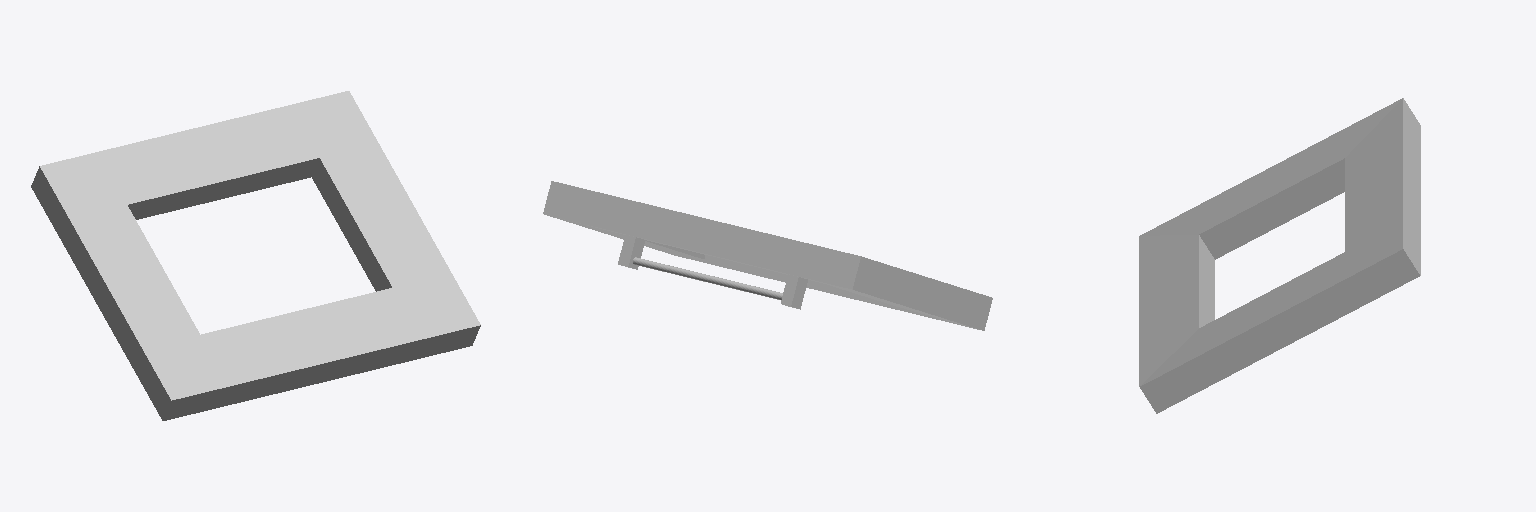
The model's file is oven_door_open.obj.
3 renders of one model, left to right at view 1: azimuth 30°, elevation 25°; view 2: azimuth 150°, elevation 25°; view 3: azimuth 270°, elevation 25°, orthographic.
Visible parts, largest first — view 1: oven_Door_Cube.001; view 2: oven_Door_Cube.001; view 3: oven_Door_Cube.001.
Boxes of the visible parts, x1=… form: oven_Door_Cube.001: x1=31, y1=91, x2=480, y2=420; oven_Door_Cube.001: x1=543, y1=181, x2=992, y2=330; oven_Door_Cube.001: x1=1139, y1=98, x2=1420, y2=413.
Bounding box in the file's own units: 1.98 × 1.01 × 1.55.